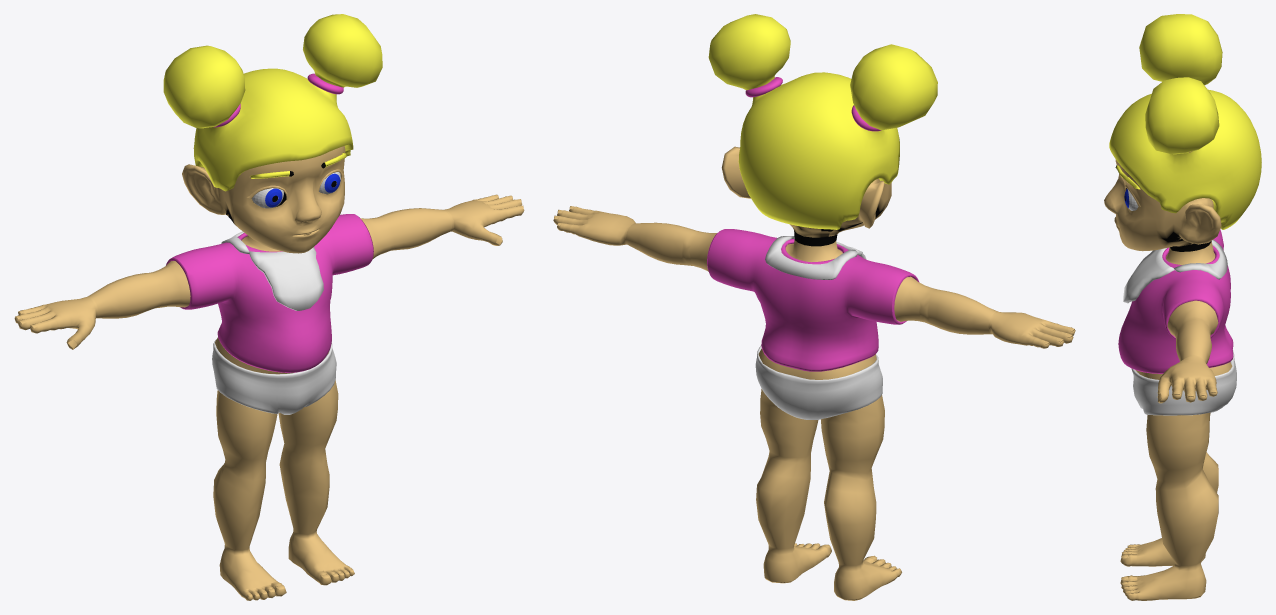
The model's file is Phoebe.fbx.
3 views of the same model, side by side, from view 1: azimuth 30°, elevation 25°; view 2: azimuth 150°, elevation 25°; view 3: azimuth 270°, elevation 25° (orthographic). The views are drawn at different scales.
Visible parts, largest first — view 1: body, long Hair, SmallShirt, Head, Dipper.001, bib; view 2: body, long Hair, SmallShirt, Dipper.001, Head, bib; view 3: long Hair, body, SmallShirt, Head, Dipper.001, bib.
Part boxes in pixels (x1,y1,x2,y2): body: [14, 194, 524, 600]; long Hair: [163, 14, 382, 191]; SmallShirt: [166, 214, 373, 372]; Head: [182, 146, 345, 253]; Dipper.001: [212, 339, 336, 414]; bib: [221, 231, 323, 310]; body: [553, 206, 1075, 600]; long Hair: [708, 14, 937, 229]; SmallShirt: [707, 229, 919, 371]; Dipper.001: [755, 345, 882, 419]; Head: [721, 146, 891, 246]; bib: [765, 236, 866, 279]; long Hair: [1109, 14, 1261, 229]; body: [1120, 242, 1232, 600]; SmallShirt: [1118, 229, 1233, 373]; Head: [1104, 159, 1221, 251]; Dipper.001: [1131, 349, 1236, 415]; bib: [1123, 239, 1227, 303].
Size of the model in its own units: 240 by 245 by 66.47.
